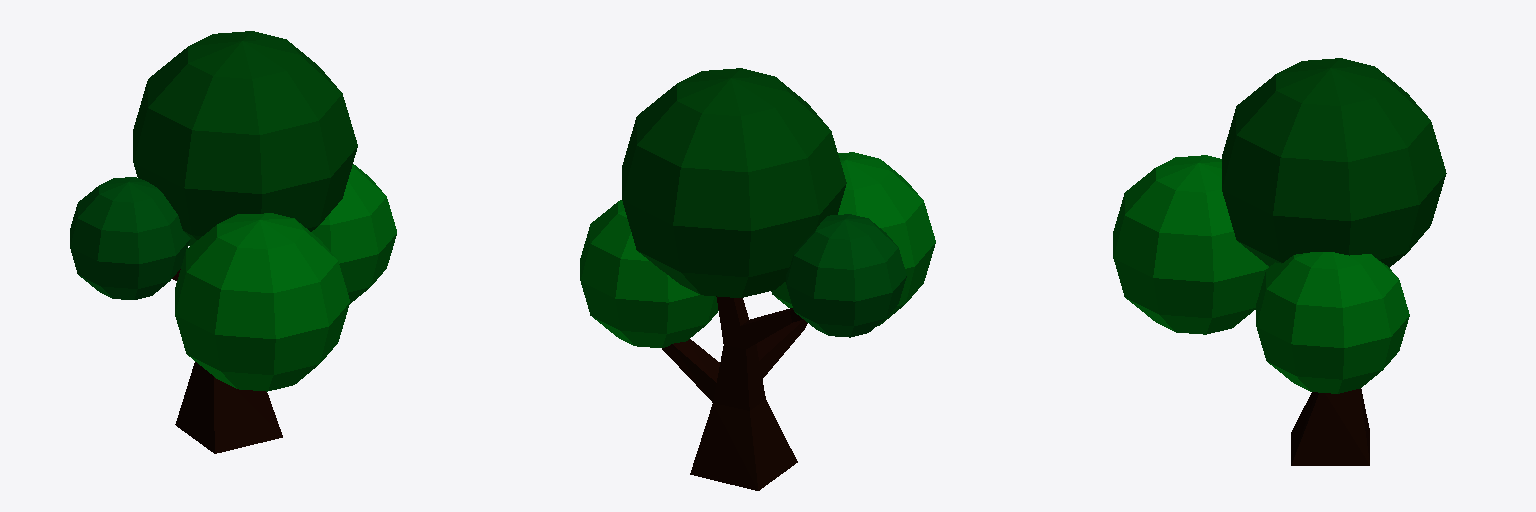
Rendered from Tree2.obj.
3 renders of one model, left to right at view 1: azimuth 30°, elevation 25°; view 2: azimuth 150°, elevation 25°; view 3: azimuth 270°, elevation 25°, orthographic.
Visible parts, largest first — view 1: Sphere.002, Sphere.003_Sphere.004, Sphere.001, Sphere, Cube; view 2: Sphere.002, Cube, Sphere.001, Sphere, Sphere.003_Sphere.004; view 3: Sphere.002, Sphere.003_Sphere.004, Sphere, Cube.
Boxes of the visible parts, box(x1,y1,x2,y2) form: Sphere.002: box(133, 31, 357, 245); Sphere.003_Sphere.004: box(175, 213, 349, 391); Sphere.001: box(70, 177, 190, 299); Sphere: box(312, 164, 396, 303); Cube: box(172, 269, 282, 453); Sphere.002: box(622, 68, 846, 297); Cube: box(662, 296, 807, 490); Sphere.001: box(786, 214, 906, 337); Sphere: box(580, 200, 718, 347); Sphere.003_Sphere.004: box(771, 152, 935, 325); Sphere.002: box(1222, 58, 1446, 267); Sphere.003_Sphere.004: box(1113, 155, 1268, 334); Sphere: box(1256, 252, 1409, 393); Cube: box(1291, 388, 1369, 465).
Size of the model in its own units: 9.06 by 10.8 by 8.42.